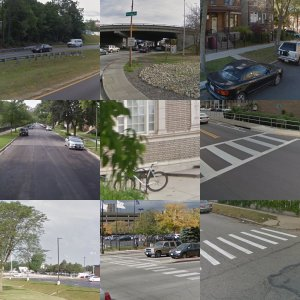汽車: (122, 1, 202, 98), (110, 244, 172, 281), (226, 139, 249, 155), (60, 114, 74, 129)
腳踏車: (141, 120, 195, 166), (219, 210, 268, 250)
自行車: (39, 19, 79, 51)
高山或山丘: (1, 201, 99, 278)
